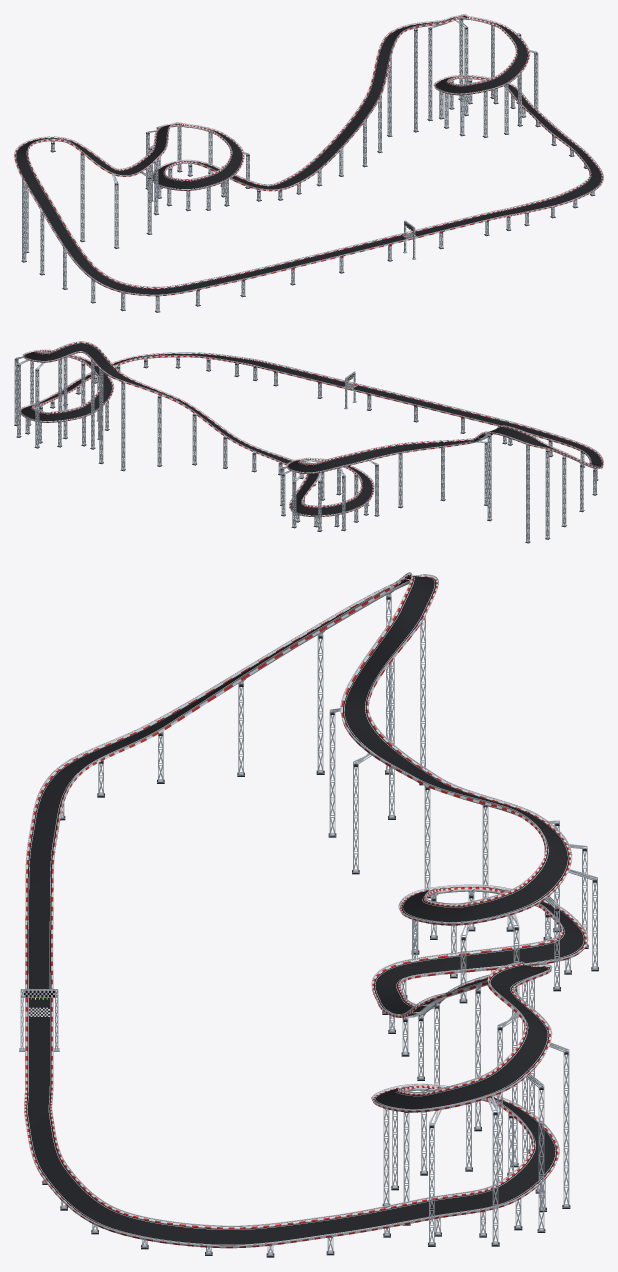
The model's file is track_coaster.glb.
3 renders of one model, top to bottom at view 1: azimuth 30°, elevation 25°; view 2: azimuth 150°, elevation 25°; view 3: azimuth 270°, elevation 25°, orthographic. The views are drawn at different scales.
Visible parts, largest first — view 1: CoasterRoadwayMesh, CoasterLatticeTrussColumns, CoasterSideRailsAndSpine, CoasterCurbsWhite, CoasterCurbsRed; view 2: CoasterLatticeTrussColumns, CoasterRoadwayMesh, CoasterSideRailsAndSpine, CoasterCurbsWhite, CoasterCurbsRed; view 3: CoasterRoadwayMesh, CoasterLatticeTrussColumns, CoasterSideRailsAndSpine, CoasterCurbsRed, CoasterCurbsWhite.
Boxes of the visible parts, x1=… form: CoasterRoadwayMesh: x1=15, y1=16, x2=602, y2=294; CoasterLatticeTrussColumns: x1=21, y1=19, x2=595, y2=312; CoasterSideRailsAndSpine: x1=14, y1=14, x2=603, y2=295; CoasterCurbsWhite: x1=14, y1=15, x2=603, y2=296; CoasterCurbsRed: x1=14, y1=15, x2=603, y2=296; CoasterLatticeTrussColumns: x1=14, y1=356, x2=598, y2=543; CoasterRoadwayMesh: x1=21, y1=343, x2=602, y2=515; CoasterSideRailsAndSpine: x1=19, y1=341, x2=603, y2=516; CoasterCurbsWhite: x1=21, y1=342, x2=603, y2=516; CoasterCurbsRed: x1=21, y1=342, x2=603, y2=516; CoasterRoadwayMesh: x1=26, y1=575, x2=585, y2=1245; CoasterLatticeTrussColumns: x1=42, y1=591, x2=598, y2=1257; CoasterSideRailsAndSpine: x1=24, y1=572, x2=588, y2=1246; CoasterCurbsRed: x1=24, y1=574, x2=586, y2=1248; CoasterCurbsWhite: x1=24, y1=574, x2=586, y2=1248.
Bounding box in the file's own units: 0.9767 × 0.1978 × 0.4781.
Materials: 11 (1 with a texture image).
